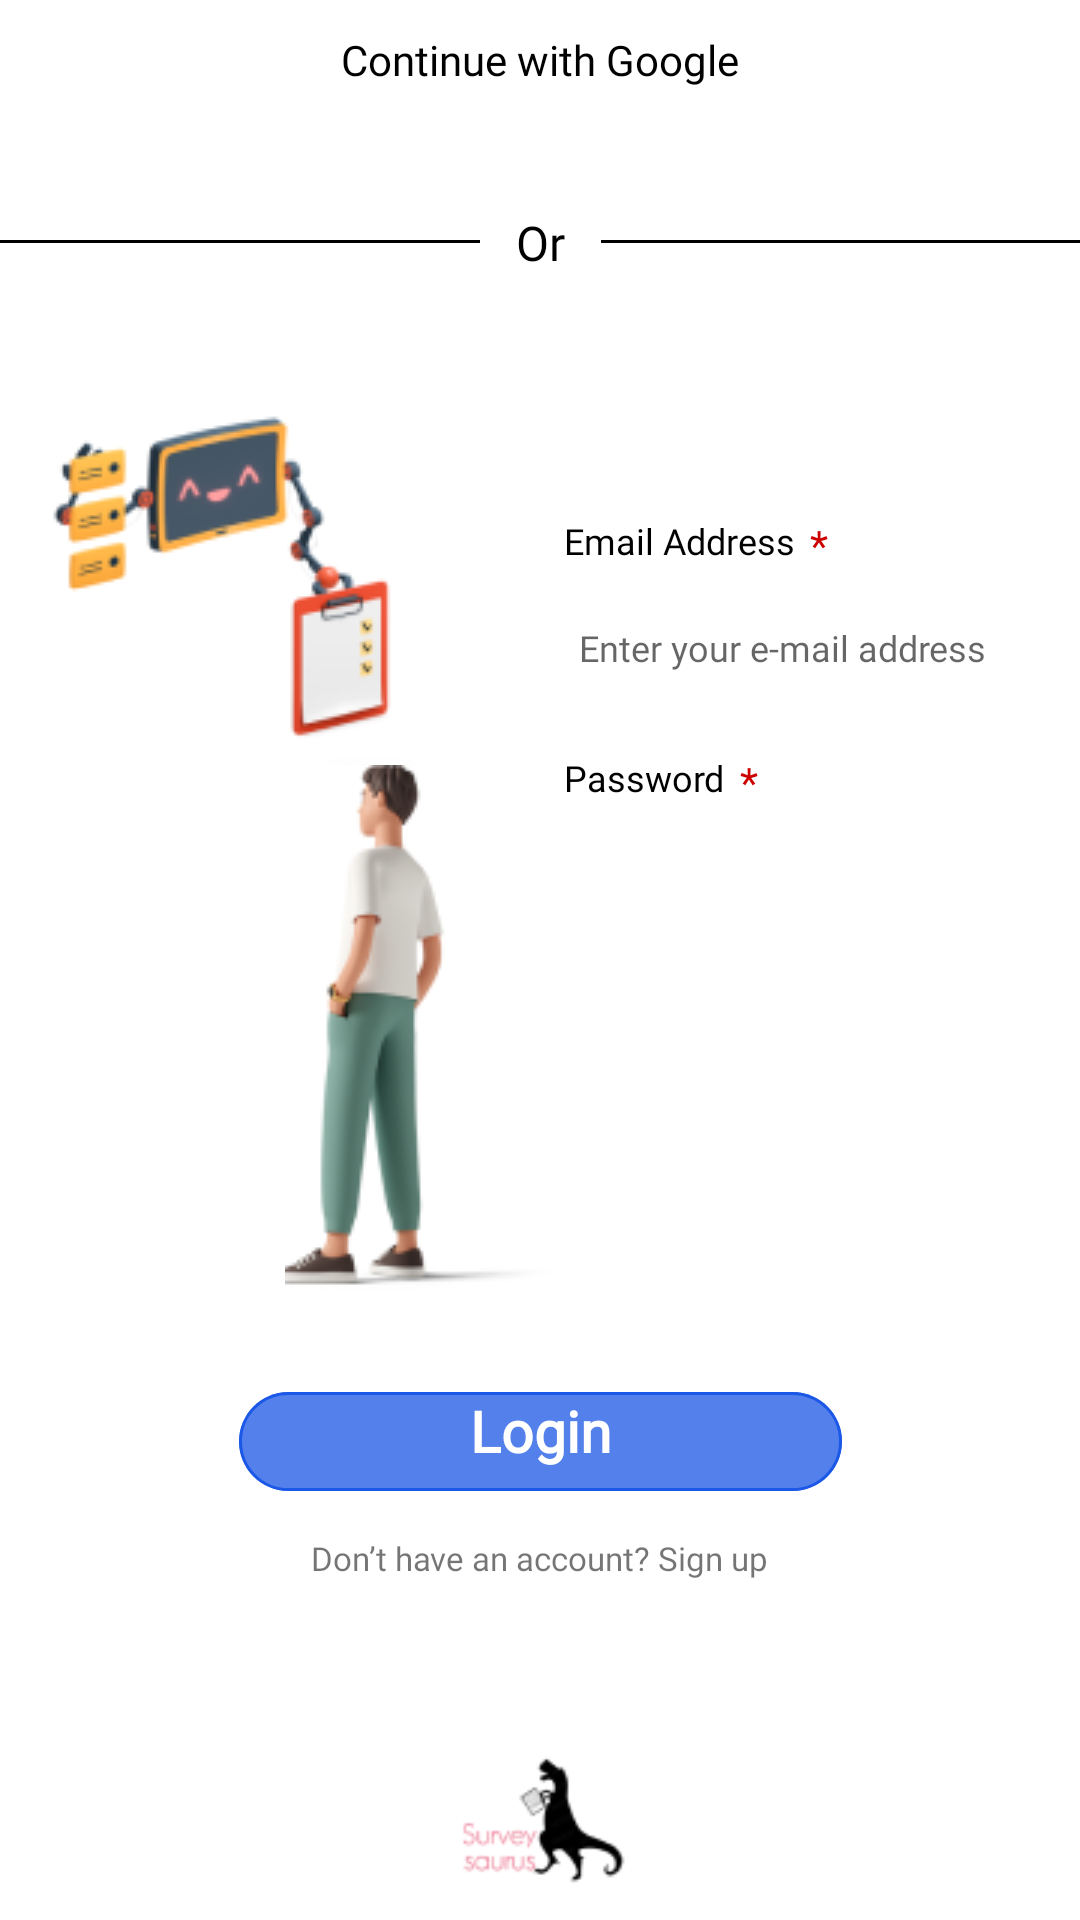

Icons on this 1080 x 1920 Android screen, each with its box as BBox(x1, y1, x2, y2):
assistant: BBox(53, 417, 390, 736)
